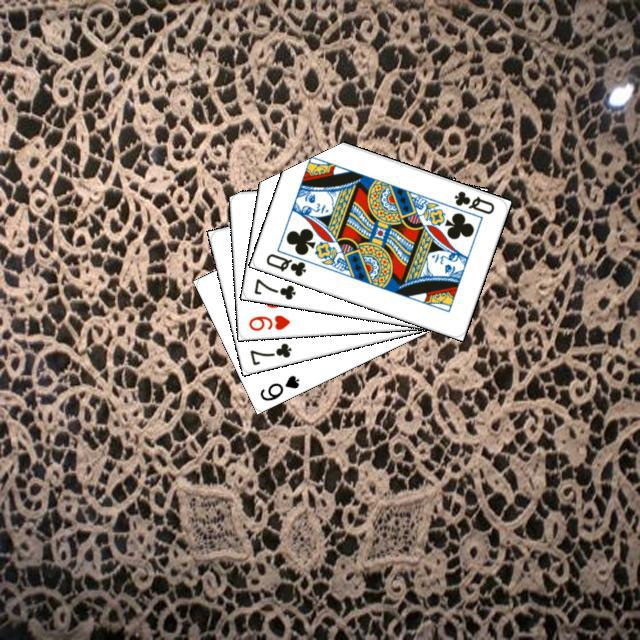6s: (255, 370, 301, 403)
7c: (245, 338, 293, 367), (249, 274, 297, 301)
9h: (244, 310, 292, 333)
Qc: (261, 243, 315, 278), (449, 186, 496, 216)
